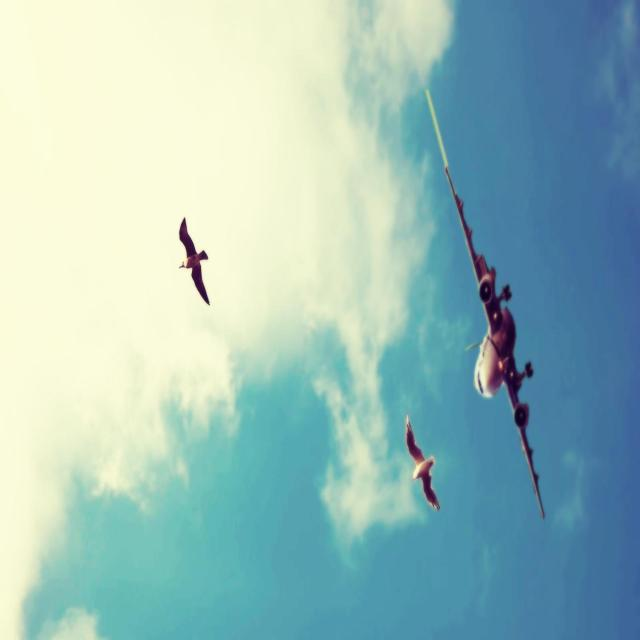airplane: (424, 88, 546, 524)
